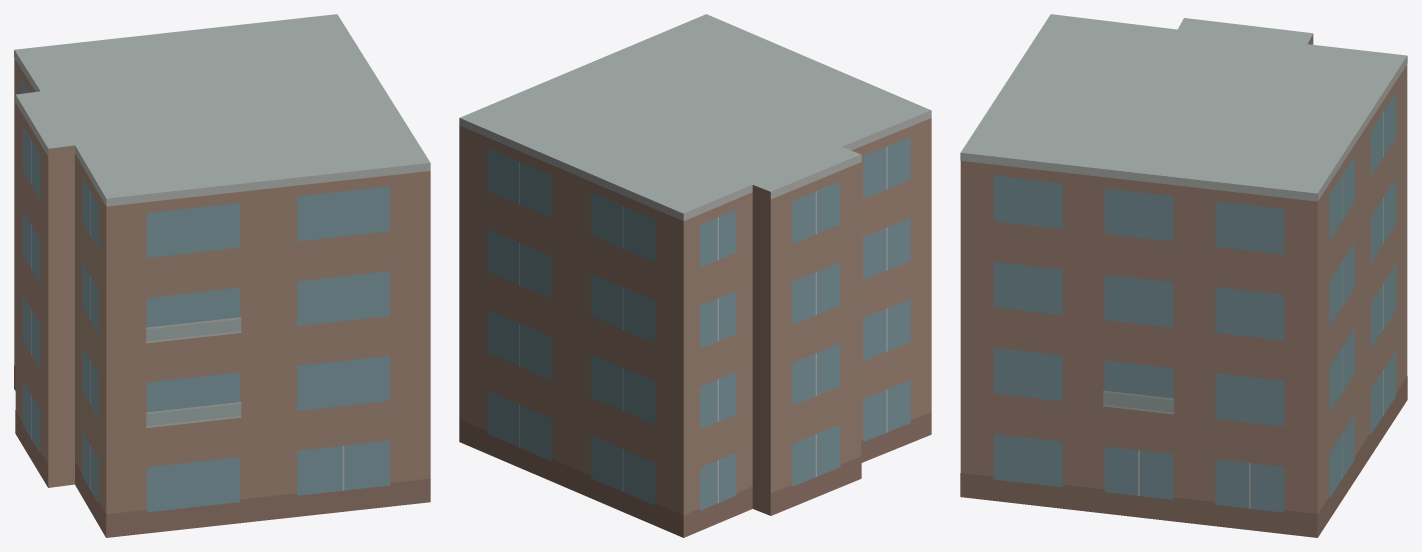
File: survey-upis-32979835.glb
3 views of the same model, side by side, from view 1: azimuth 30°, elevation 25°; view 2: azimuth 150°, elevation 25°; view 3: azimuth 270°, elevation 25° (orthographic). The views are drawn at different scales.
Parts seen in each view (by area): view 1: survey-upis-32979835.tmp; view 2: survey-upis-32979835.tmp; view 3: survey-upis-32979835.tmp.
Boxes of the visible parts, bbox=[...] form: survey-upis-32979835.tmp: bbox=[14, 14, 430, 537]; survey-upis-32979835.tmp: bbox=[459, 14, 931, 537]; survey-upis-32979835.tmp: bbox=[960, 14, 1407, 537].
Size of the model in its own units: 11.7 by 10.45 by 12.31.
